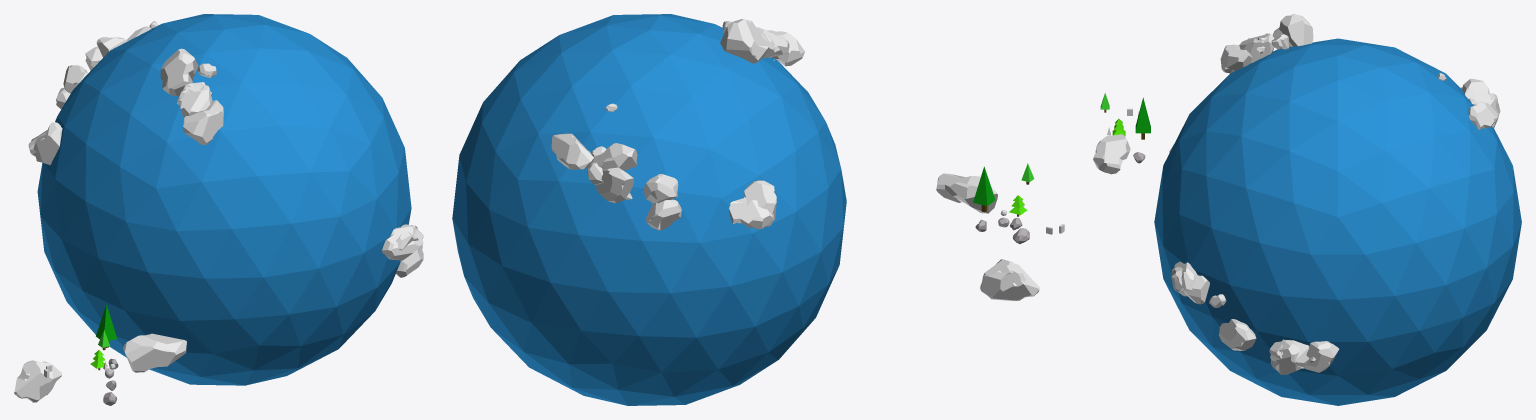
Rendered from 漫游场景.fbx.
The picture shows the model from 3 angles, left to right: view 1: azimuth 30°, elevation 25°; view 2: azimuth 150°, elevation 25°; view 3: azimuth 270°, elevation 25°; orthographic projection. The views are drawn at different scales.
Parts seen in each view (by area): view 1: Wasser.001, 棱角球.002 - copy, 棱角球.002, 棱角球.002 Duplicator|棱角球.002 - copy|Dupli|20, 棱角球.002 Duplicator|棱角球.002 - copy|Dupli|10, 棱角球.002 Duplicator|棱角球.002 - copy|Dupli|13, 棱角球.002 Duplicator|棱角球.002 - copy|Dupli|16, 棱角球.002 Duplicator|棱角球.002 - copy|Dupli|12, 棱角球.002 Duplicator|棱角球.002 - copy|Dupli|14, 棱角球.002 Duplicator|棱角球.002 - copy|Dupli|, 树1; view 2: Wasser.001, 棱角球.002, 棱角球.002 Duplicator|棱角球.002 - copy|Dupli|20, 棱角球.002 - copy, 棱角球.002 Duplicator|棱角球.002 - copy|Dupli|15, 棱角球.002 Duplicator|棱角球.002 - copy|Dupli|24, 棱角球.002 Duplicator|棱角球.002 - copy|Dupli|1, 棱角球.002 Duplicator|棱角球.002 - copy|Dupli|25, 棱角球.002 Duplicator|棱角球.002 - copy|Dupli|21, 棱角球.002 Duplicator|棱角球.002 - copy|Dupli|, 棱角球.002 Duplicator|棱角球.002 - copy|Dupli|16, 棱角球.002 Duplicator|棱角球.002 - copy|Dupli|10; view 3: Wasser.001, 棱角球.002 - copy, 棱角球.002 Duplicator|棱角球.002 - copy|Dupli|20, 棱角球.002 Duplicator|棱角球.002 - copy|Dupli|14, 棱角球.002 Duplicator|棱角球.002 - copy|Dupli|22, 棱角球.002 Duplicator|棱角球.002 - copy|Dupli|17, 棱角球.002 Duplicator|棱角球.002 - copy|Dupli|10, 棱角球.002 Duplicator|棱角球.002 - copy|Dupli|15, 棱角球.002 Duplicator|棱角球.002 - copy|Dupli|27, 棱角球.002 Duplicator|棱角球.002 - copy|Dupli|12, 棱角球.002 Duplicator|棱角球.002 - copy|Dupli|25, 棱角球.002 Duplicator|棱角球.002 - copy|Dupli|13 (+1 smaller).
Boxes of the visible parts, box(x1,y1,x2,y2) form: Wasser.001: box(37, 14, 411, 385); 棱角球.002 - copy: box(123, 333, 186, 372); 棱角球.002: box(14, 360, 61, 402); 棱角球.002 Duplicator|棱角球.002 - copy|Dupli|20: box(160, 48, 198, 96); 棱角球.002 Duplicator|棱角球.002 - copy|Dupli|10: box(182, 100, 223, 145); 棱角球.002 Duplicator|棱角球.002 - copy|Dupli|13: box(382, 226, 423, 260); 棱角球.002 Duplicator|棱角球.002 - copy|Dupli|16: box(33, 122, 62, 165); 棱角球.002 Duplicator|棱角球.002 - copy|Dupli|12: box(177, 82, 212, 117); 棱角球.002 Duplicator|棱角球.002 - copy|Dupli|14: box(396, 245, 423, 277); 棱角球.002 Duplicator|棱角球.002 - copy|Dupli|: box(63, 65, 88, 93); 树1: box(96, 304, 117, 347); Wasser.001: box(452, 14, 846, 405); 棱角球.002: box(980, 259, 1039, 301); 棱角球.002 Duplicator|棱角球.002 - copy|Dupli|20: box(720, 19, 768, 63); 棱角球.002 - copy: box(936, 173, 997, 213); 棱角球.002 Duplicator|棱角球.002 - copy|Dupli|15: box(551, 133, 594, 169); 棱角球.002 Duplicator|棱角球.002 - copy|Dupli|24: box(595, 167, 633, 203); 棱角球.002 Duplicator|棱角球.002 - copy|Dupli|1: box(729, 197, 773, 229); 棱角球.002 Duplicator|棱角球.002 - copy|Dupli|25: box(590, 143, 637, 170); 棱角球.002 Duplicator|棱角球.002 - copy|Dupli|21: box(645, 199, 681, 230); 棱角球.002 Duplicator|棱角球.002 - copy|Dupli|: box(643, 174, 678, 203); 棱角球.002 Duplicator|棱角球.002 - copy|Dupli|16: box(744, 180, 776, 229); 棱角球.002 Duplicator|棱角球.002 - copy|Dupli|10: box(766, 30, 804, 66); Wasser.001: box(1154, 38, 1521, 405); 棱角球.002 - copy: box(1093, 134, 1130, 174); 棱角球.002 Duplicator|棱角球.002 - copy|Dupli|20: box(1272, 14, 1313, 46); 棱角球.002 Duplicator|棱角球.002 - copy|Dupli|14: box(1219, 319, 1256, 350); 棱角球.002 Duplicator|棱角球.002 - copy|Dupli|22: box(1304, 341, 1339, 372); 棱角球.002 Duplicator|棱角球.002 - copy|Dupli|17: box(1270, 339, 1301, 374); 棱角球.002 Duplicator|棱角球.002 - copy|Dupli|10: box(1220, 44, 1251, 73); 棱角球.002 Duplicator|棱角球.002 - copy|Dupli|15: box(1468, 102, 1497, 129); 棱角球.002 Duplicator|棱角球.002 - copy|Dupli|27: box(1171, 267, 1209, 304); 棱角球.002 Duplicator|棱角球.002 - copy|Dupli|12: box(1239, 33, 1274, 62); 棱角球.002 Duplicator|棱角球.002 - copy|Dupli|25: box(1462, 78, 1491, 103); 棱角球.002 Duplicator|棱角球.002 - copy|Dupli|13: box(1171, 261, 1197, 296).
Size of the model in its own units: 3634 by 2673 by 3030.
